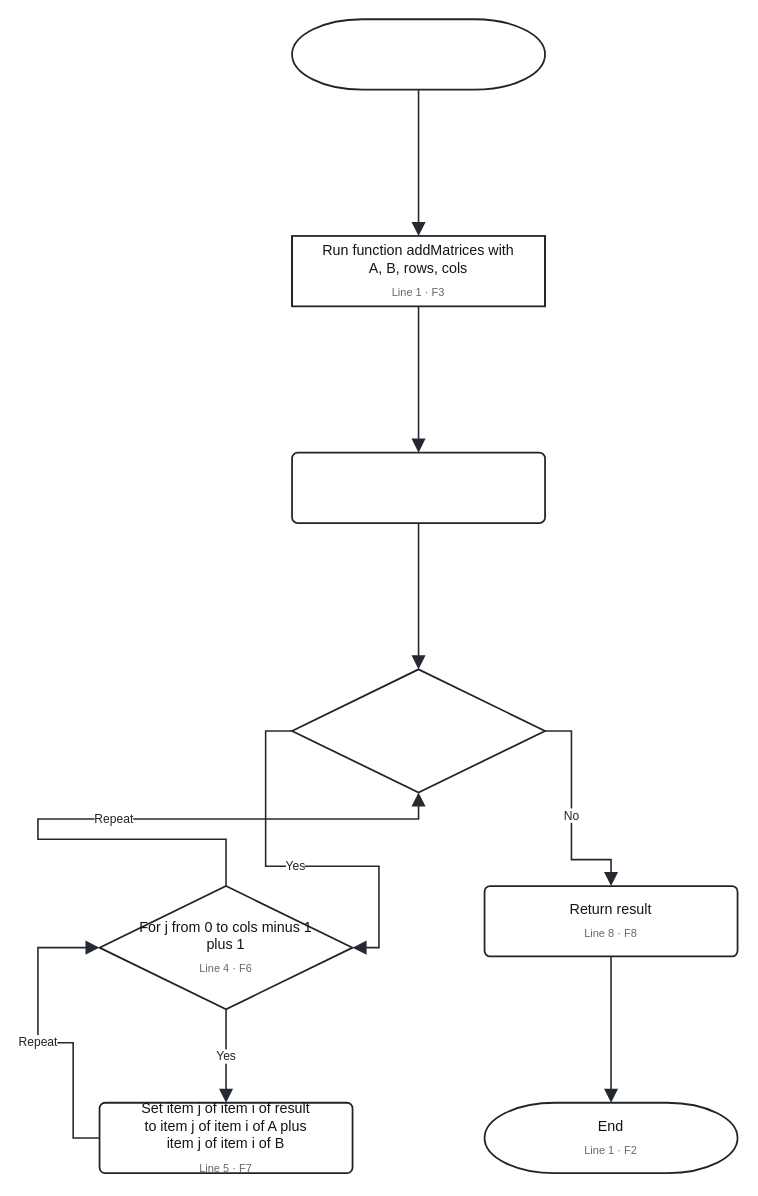
Some shapes in this 758 by 1196 pixel diagram are drawn without their labels. The shapes that lost their labels are listed below. From the top down, each one's centre as x and y in pixels, then its label:
At pixel 418 54: "Start Line 1 · F1".
At pixel 418 487: "Set result to the result of create_matrix(rows, cols, nothing) Line 2 · F4".
At pixel 418 730: "For i from 0 to rows minus 1 plus 1 Line 3 · F5".
